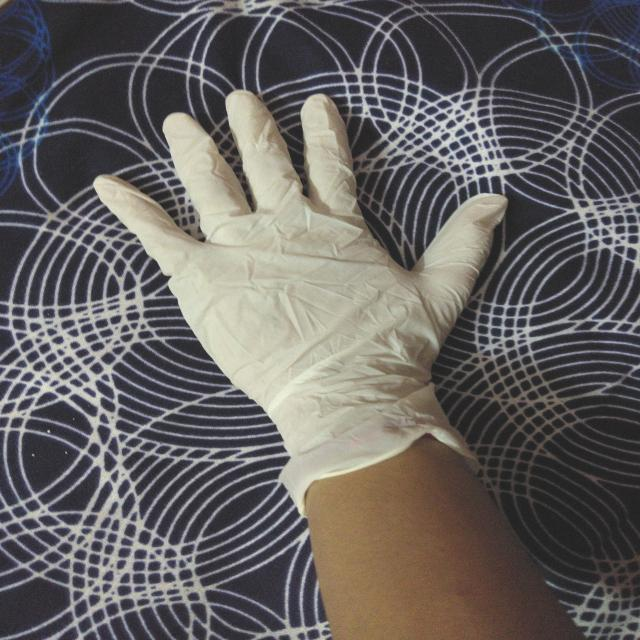glove: (89, 78, 527, 519)
